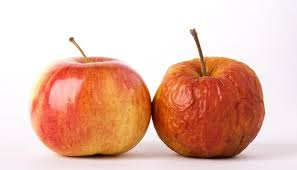apple: (36, 57, 149, 162)
damaged_apple: (154, 57, 267, 161)
